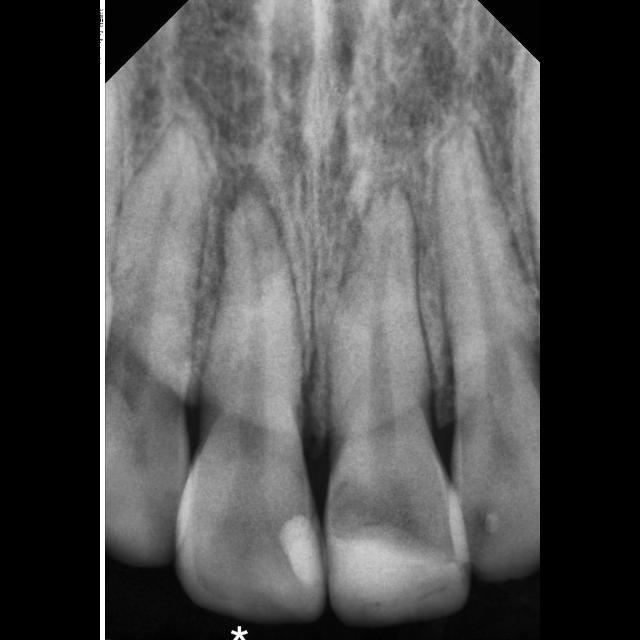test-segment: (178, 183, 324, 621)
